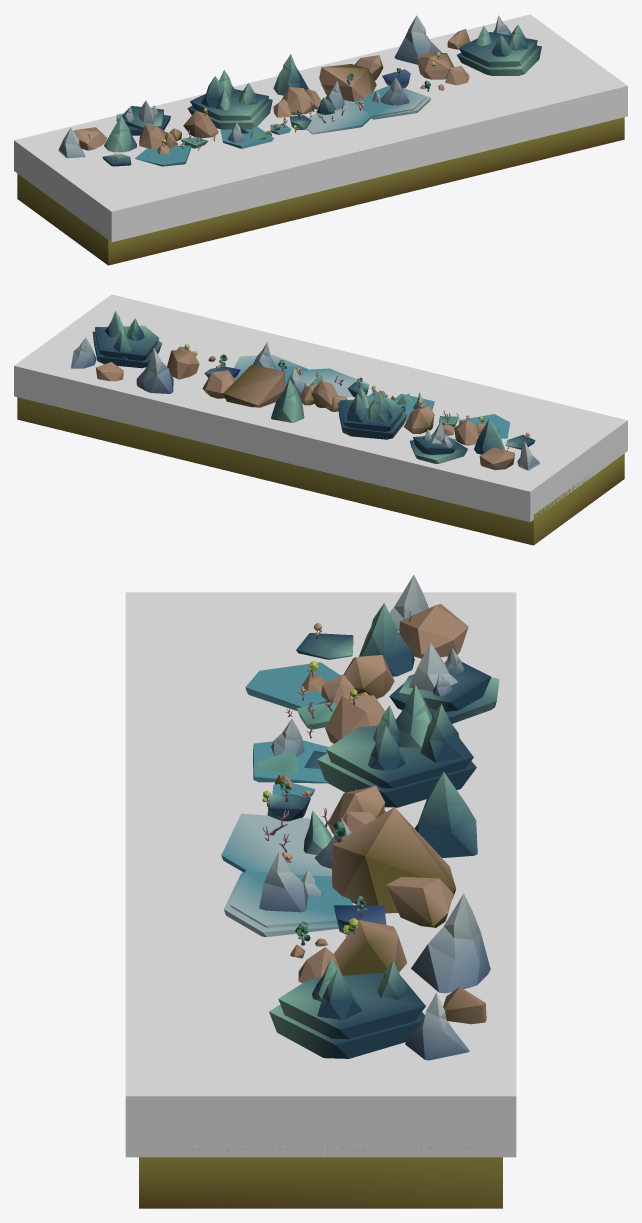
File: winter_bg.fbx
3 views of the same model, one above another, from view 1: azimuth 30°, elevation 25°; view 2: azimuth 150°, elevation 25°; view 3: azimuth 270°, elevation 25° (orthographic). The views are drawn at different scales.
Parts seen in each view (by area): view 1: ground, ground.001, stone.011, Mountain1.017, Mountain1.023, Mountain1.011, Mountain2.010, Mountain1.024, Mountain1.015, Mountain1.021, stone.009, Mountain1.006 (+14 smaller); view 2: ground, ground.001, stone.011, Mountain1.017, Mountain2.010, Mountain1.004, Mountain1.011, Mountain1.023, stone.009, Mountain1.007, stone.004, stone.012 (+13 smaller); view 3: ground, ground.001, stone.011, Mountain1.017, Mountain2.010, Mountain1.023, Mountain1.011, Mountain1.004, Mountain1.024, Mountain1.015, stone.009, stone.012 (+23 smaller).
Part boxes in pixels (left/top/right/bottom): ground: left=14, top=14, right=627, bottom=242; ground.001: left=17, top=117, right=624, bottom=265; stone.011: left=319, top=64, right=376, bottom=101; Mountain1.017: left=458, top=32, right=537, bottom=67; Mountain1.023: left=306, top=100, right=371, bottom=134; Mountain1.011: left=190, top=89, right=268, bottom=120; Mountain2.010: left=394, top=15, right=441, bottom=64; Mountain1.024: left=353, top=85, right=425, bottom=116; Mountain1.015: left=457, top=45, right=541, bottom=75; Mountain1.021: left=135, top=145, right=190, bottom=166; stone.009: left=416, top=53, right=453, bottom=79; Mountain1.006: left=104, top=115, right=136, bottom=152; ground: left=14, top=294, right=627, bottom=522; ground.001: left=17, top=397, right=624, bottom=545; stone.011: left=223, top=364, right=285, bottom=407; Mountain1.017: left=95, top=325, right=158, bottom=360; Mountain2.010: left=136, top=348, right=173, bottom=393; Mountain1.004: left=271, top=379, right=304, bottom=422; Mountain1.011: left=339, top=398, right=403, bottom=431; Mountain1.023: left=285, top=368, right=369, bottom=397; stone.009: left=167, top=350, right=199, bottom=379; Mountain1.007: left=337, top=402, right=407, bottom=439; stone.004: left=404, top=405, right=434, bottom=433; stone.012: left=202, top=369, right=235, bottom=398; ground: left=125, top=592, right=516, bottom=1157; ground.001: left=139, top=1147, right=502, bottom=1208; stone.011: left=332, top=807, right=456, bottom=913; Mountain1.017: left=278, top=972, right=425, bottom=1039; Mountain2.010: left=411, top=893, right=490, bottom=993; Mountain1.023: left=221, top=813, right=331, bottom=876; Mountain1.011: left=326, top=725, right=473, bottom=788; Mountain1.004: left=414, top=772, right=477, bottom=857; Mountain1.024: left=229, top=870, right=352, bottom=927; Mountain1.015: left=269, top=1004, right=424, bottom=1058; stone.009: left=333, top=920, right=407, bottom=975; stone.012: left=386, top=877, right=453, bottom=927.
Bounding box in the file's own units: 95770 × 22705 × 31369.
